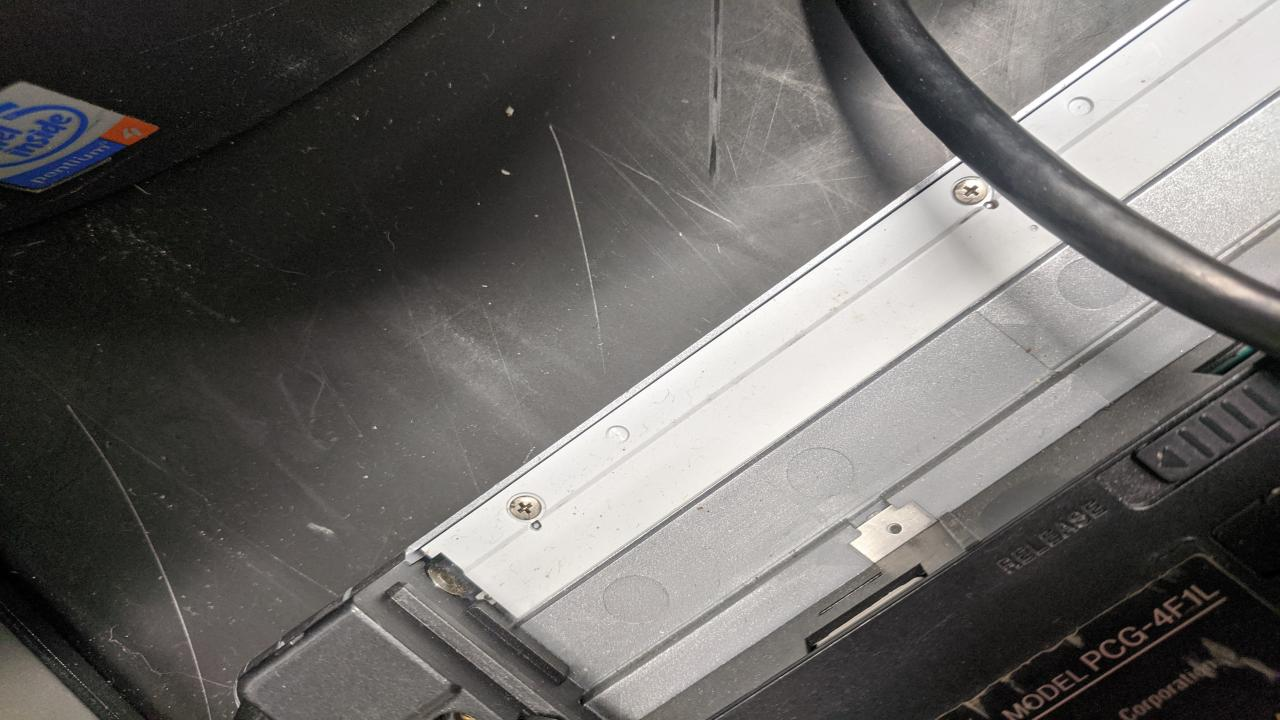CRS: (954, 177, 991, 206), (510, 494, 542, 520)
